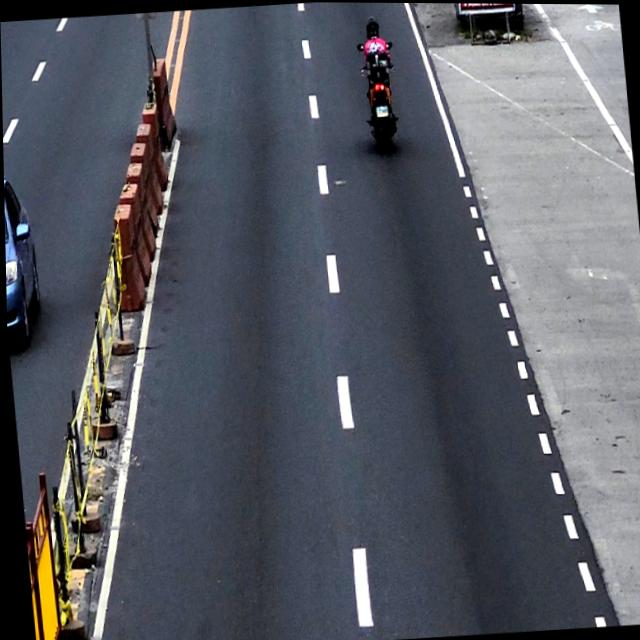License-Plate: (374, 105, 387, 117)
Motorcycle: (356, 37, 402, 154)
